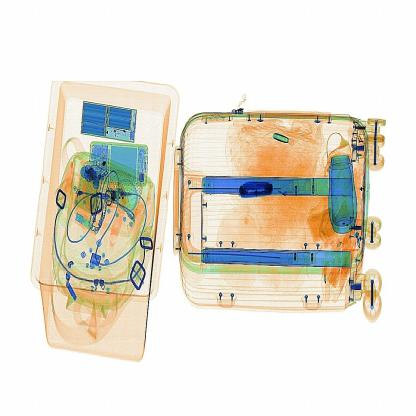scissors: (231, 178, 278, 206)
